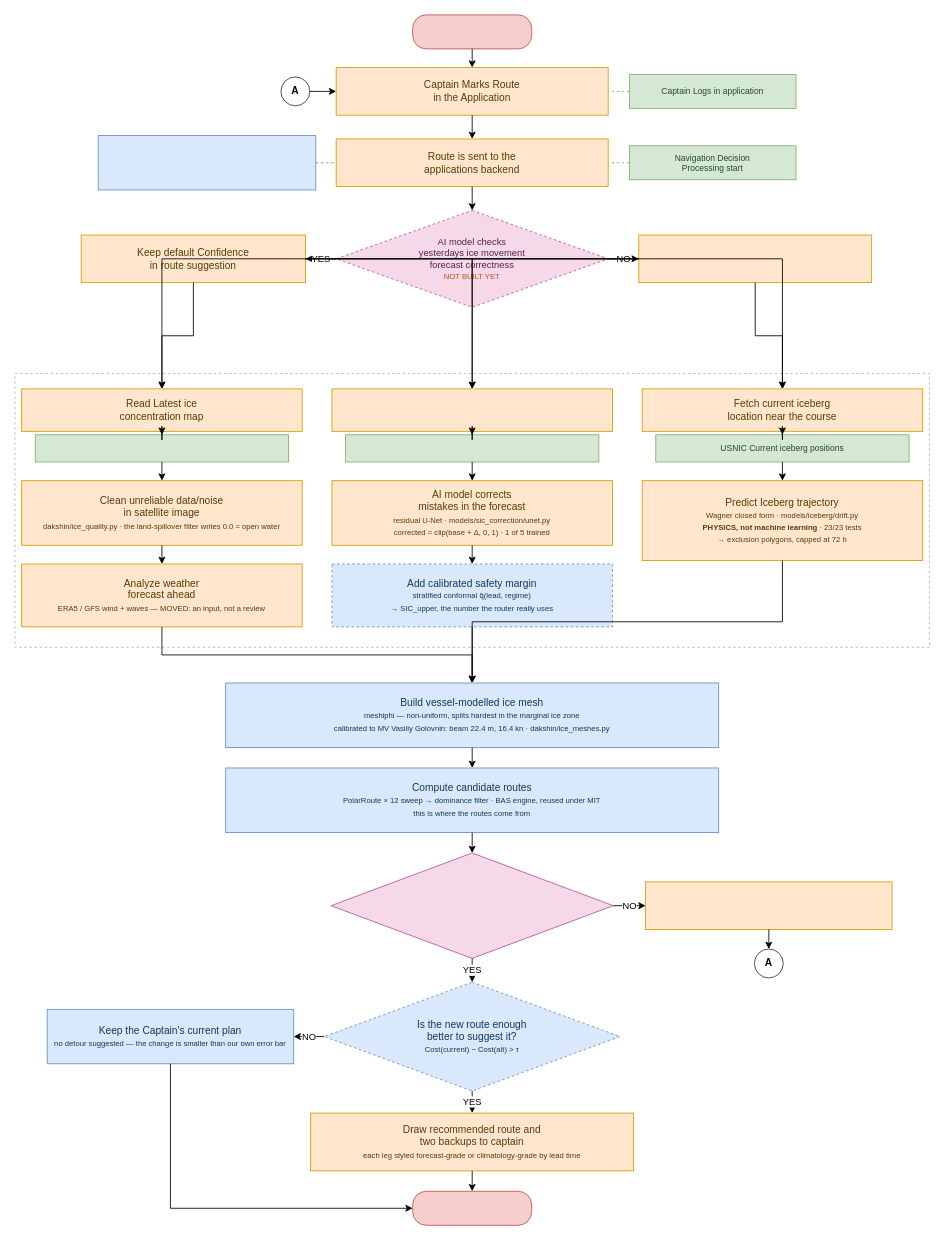
Image size: 944x1240. Some labels were removed from this diagram. The box of each missing label's shape, as (x1, y1, x2, y2) in pixels:
Advise Captain to recartograph a new route: (645, 881, 892, 929)
backend is LOCAL on the bridge laptop — no outbound network at 70°S: (97, 135, 316, 190)
CMEMS Sea-ice forecast: (345, 434, 599, 462)
End: (412, 1190, 532, 1225)
Fetch weather model's Sea-ice forecast: (331, 388, 612, 431)
Is course's POLARIS ice concentration safe TODAY: FLAT 80% CUTOFF: (330, 852, 613, 958)
Lower Confidence and increase number of safe routes: (638, 234, 872, 283)
READ THE VOYAGE PACK — three independent pulls, in parallel: (14, 373, 929, 647)
Start: (412, 14, 532, 49)
Taken by NSIDC satellite with SSMIS sensor: (34, 434, 289, 462)
